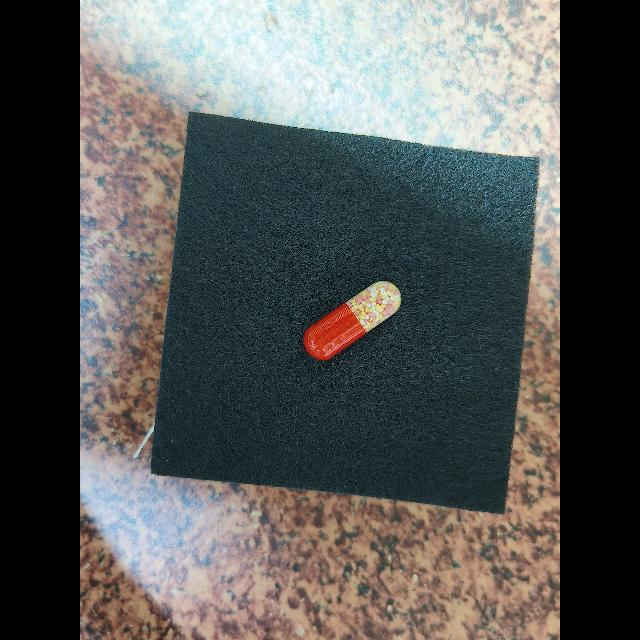Intact Capsule: (303, 281, 401, 360)
